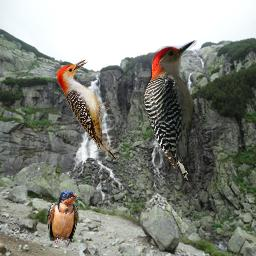Swallow: (47, 190, 80, 248)
Woodpecker: (142, 40, 205, 181), (56, 59, 118, 163)
